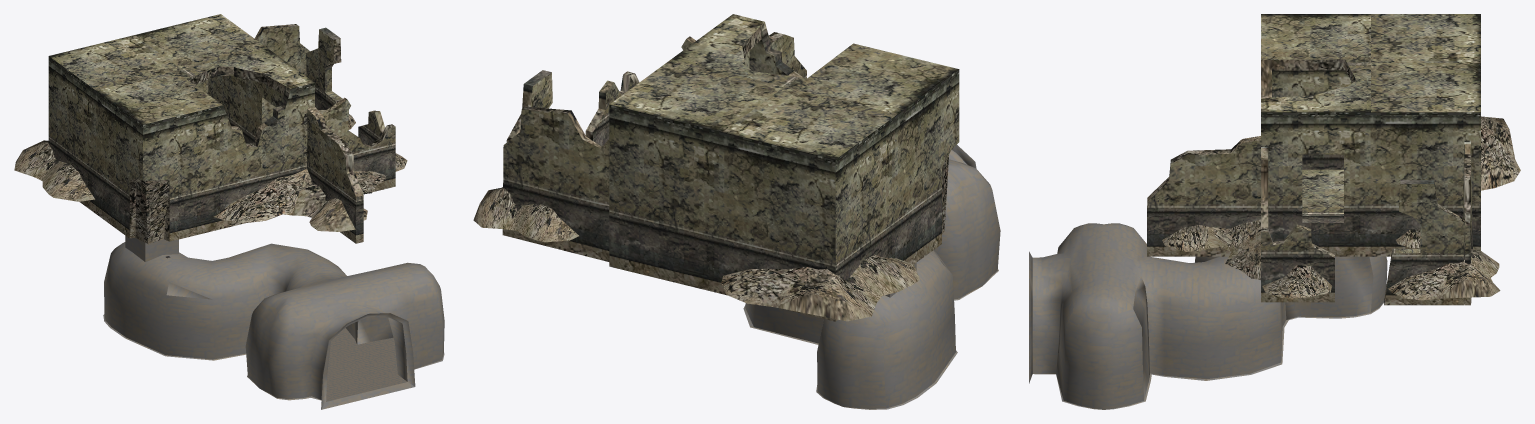
Rendered from R_Ent1.glb.
3 renders of one model, left to right at view 1: azimuth 30°, elevation 25°; view 2: azimuth 150°, elevation 25°; view 3: azimuth 270°, elevation 25°, orthographic. The views are drawn at different scales.
Visible parts, largest first — view 1: _R_Ent1; view 2: _R_Ent1; view 3: _R_Ent1.
Boxes of the visible parts, left/top/right/bottom form: _R_Ent1: left=14, top=14, right=444, bottom=409; _R_Ent1: left=473, top=14, right=1000, bottom=409; _R_Ent1: left=1029, top=14, right=1520, bottom=409.
Bounding box in the file's own units: 15.16 × 10.87 × 17.87.
Materials: 6 (6 with a texture image).
